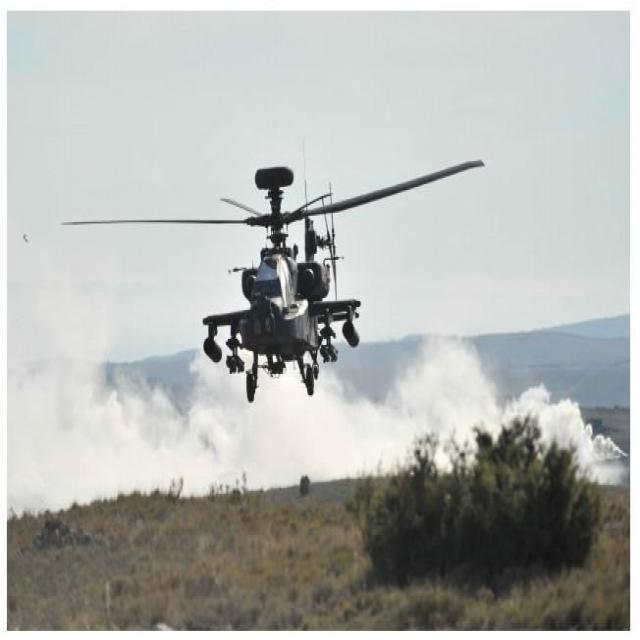MIL_HELO: (36, 149, 501, 419)
